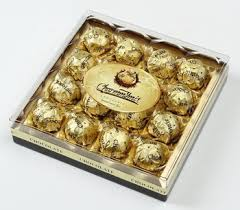Chocolate: (6, 10, 231, 205)
